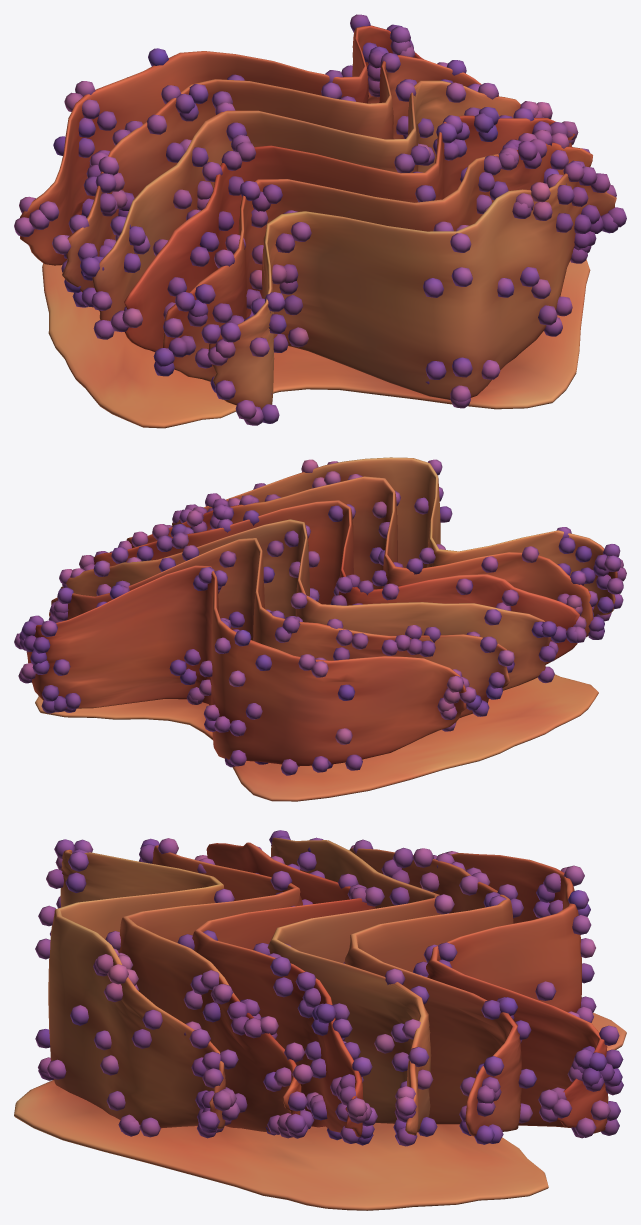
Rendered from rough-er.glb.
3 renders of one model, top to bottom at view 1: azimuth 30°, elevation 25°; view 2: azimuth 150°, elevation 25°; view 3: azimuth 270°, elevation 25°, orthographic. The views are drawn at different scales.
Visible parts, largest first — view 1: rough-er-sheets, rough-er-ribosomes; view 2: rough-er-sheets, rough-er-ribosomes; view 3: rough-er-sheets, rough-er-ribosomes.
Part boxes in pixels (bbox=[...]): rough-er-sheets: bbox=[20, 25, 616, 428]; rough-er-ribosomes: bbox=[14, 14, 626, 425]; rough-er-sheets: bbox=[26, 457, 617, 801]; rough-er-ribosomes: bbox=[14, 459, 626, 775]; rough-er-sheets: bbox=[14, 837, 626, 1210]; rough-er-ribosomes: bbox=[35, 830, 623, 1146].
Size of what is drawn, in the model's own units: 3.67 by 1.2 by 3.62.
